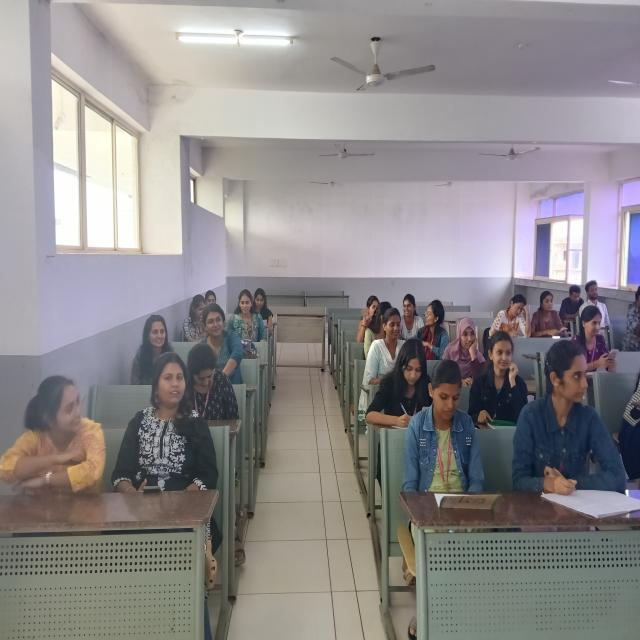Reading: (251, 286, 274, 333)
Using Phone: (115, 352, 214, 499), (185, 343, 236, 422), (574, 304, 622, 374), (532, 290, 568, 338)
Writing: (514, 337, 630, 502), (358, 337, 432, 425), (486, 293, 532, 340)
